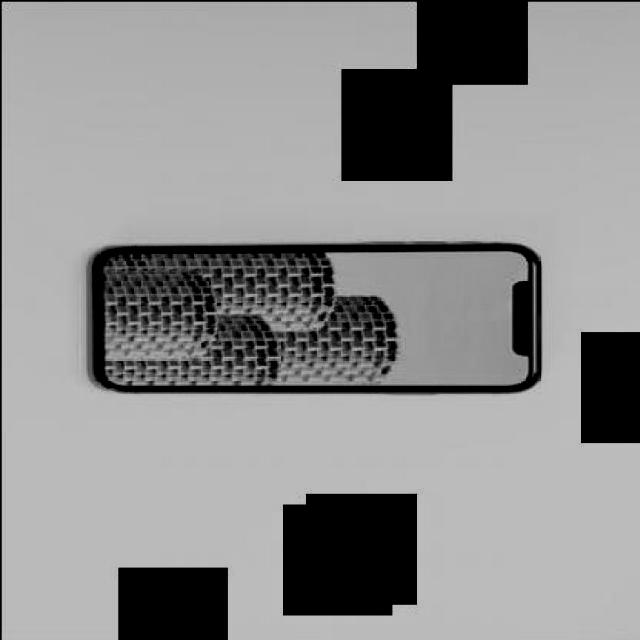fake: (88, 239, 542, 396)
